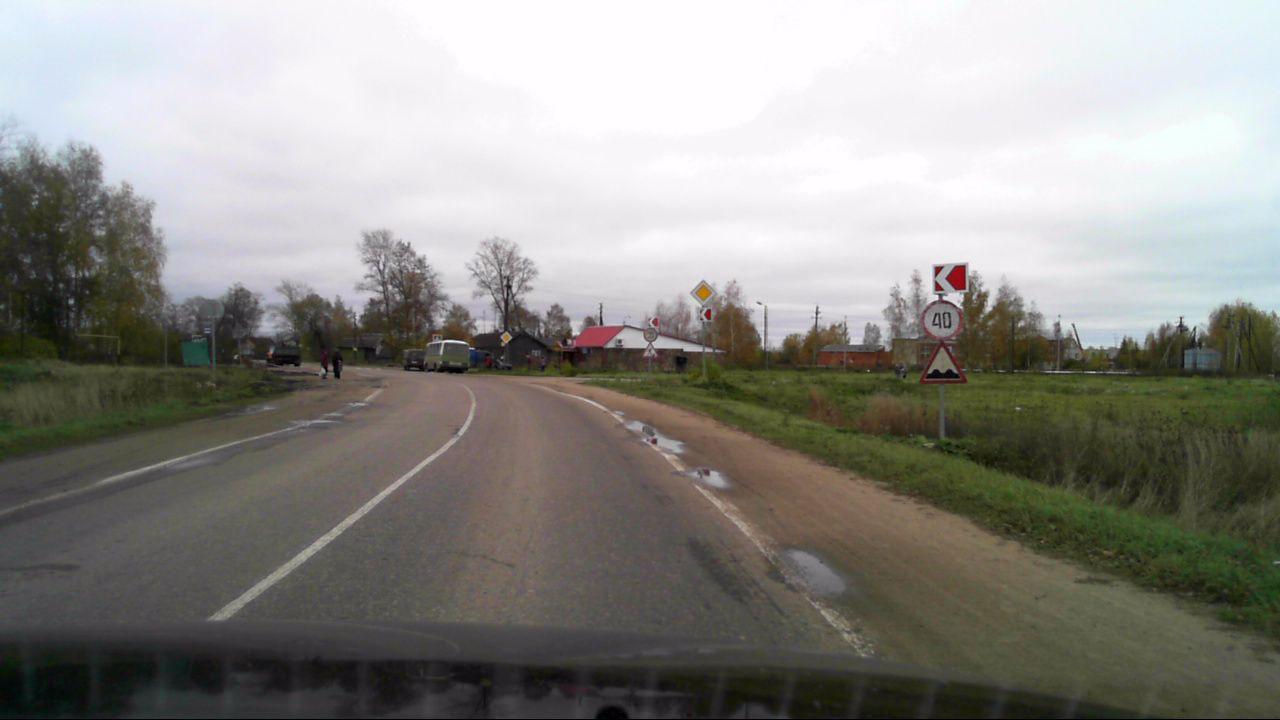speed_warning_40: (921, 299, 962, 340)
